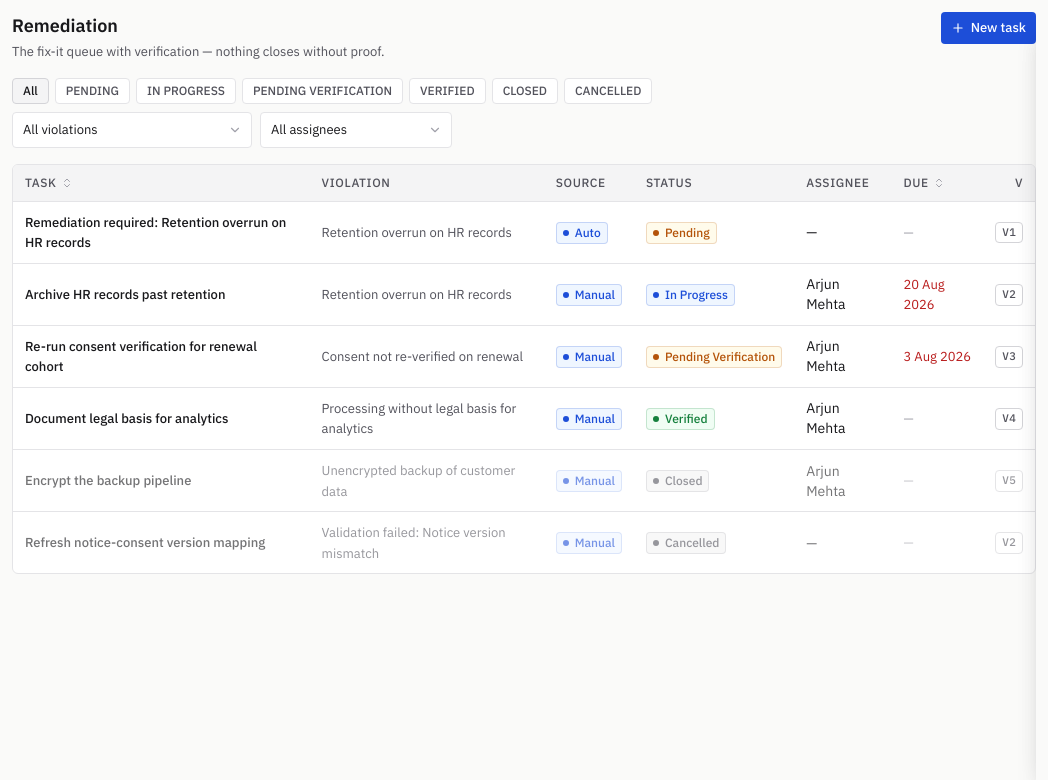
it: RemediationView (§9.9) › filters the queue by status chip
Expected: the text "Remediation required: Retention overrun on HR records" is shown, [25,214,286,251]
Click the button "PENDING VERIFICATION" at coordinates (322, 90), box [242,78,403,104]
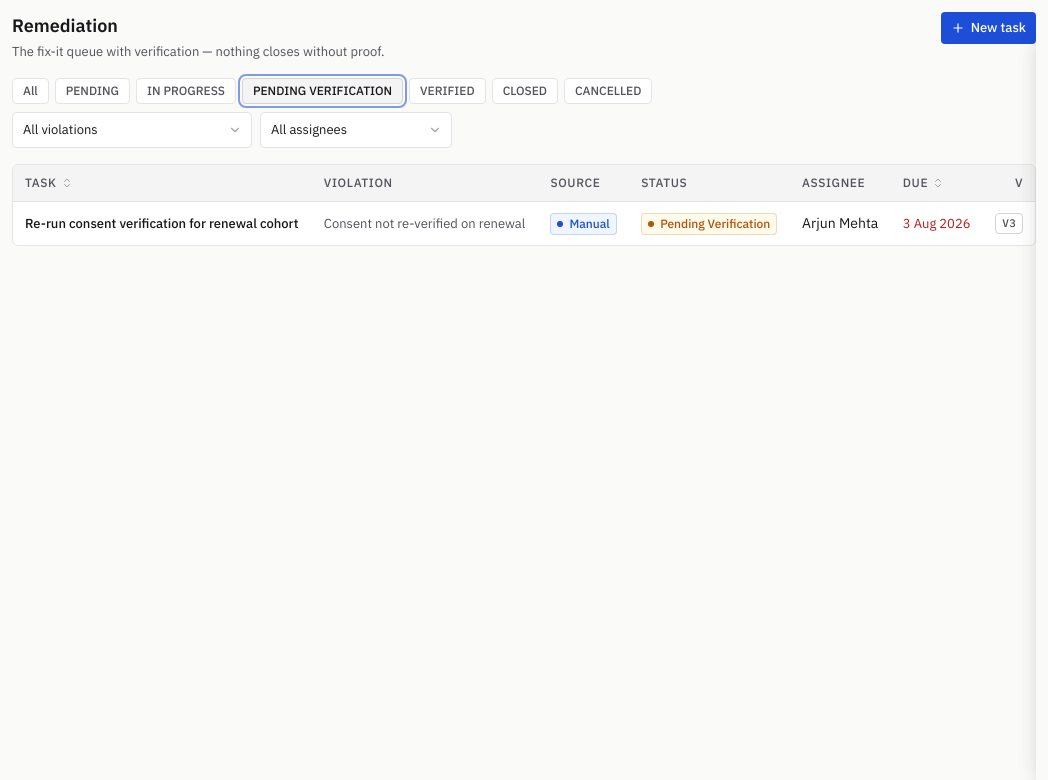
Expected: the text "Re-run consent verification for renewal cohort" is shown, [25,215,298,232]
Now the text "Encrypt the backup pipeline" is gone
Now the text "Remediation required: Retention overrun on HR records" is gone
